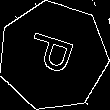P_E: (23, 30, 83, 82)
